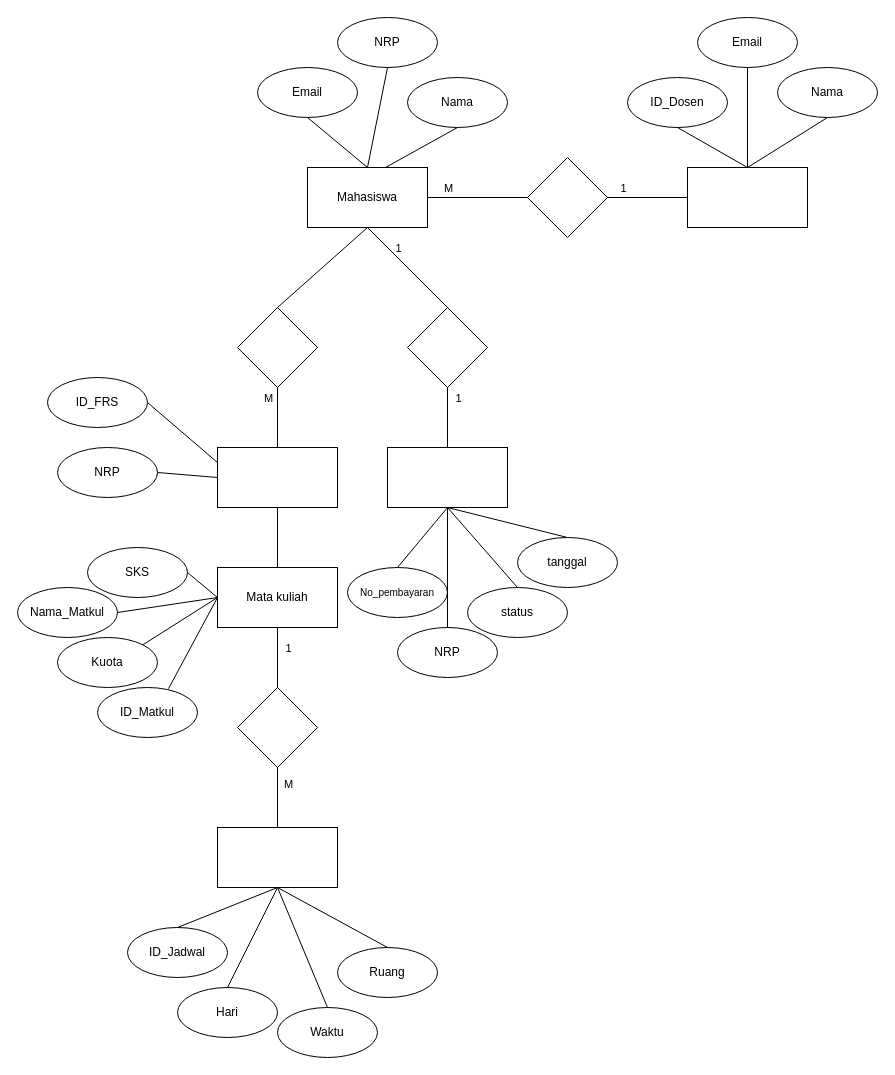
The diagram is 895 pixels wide and 1075 high, and some of its shapes have lost their labels. The centre of each missing label's shape, as x and y in pixels:
Dosen wali: point 747,197
FRS: point 277,477
Jadwal: point 277,857
Melakukan: point 447,347
Membimbing: point 567,197
Memiliki: point 277,727
Mengisi: point 277,347
Pembayaran: point 447,477
